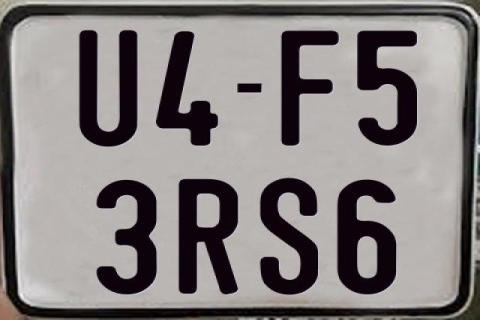0: (96, 180, 163, 298), (154, 29, 218, 144), (357, 31, 419, 147), (338, 178, 398, 294)
F: (279, 28, 338, 146)
R: (177, 177, 236, 295)
S: (257, 177, 321, 295)
U: (79, 31, 141, 151)
